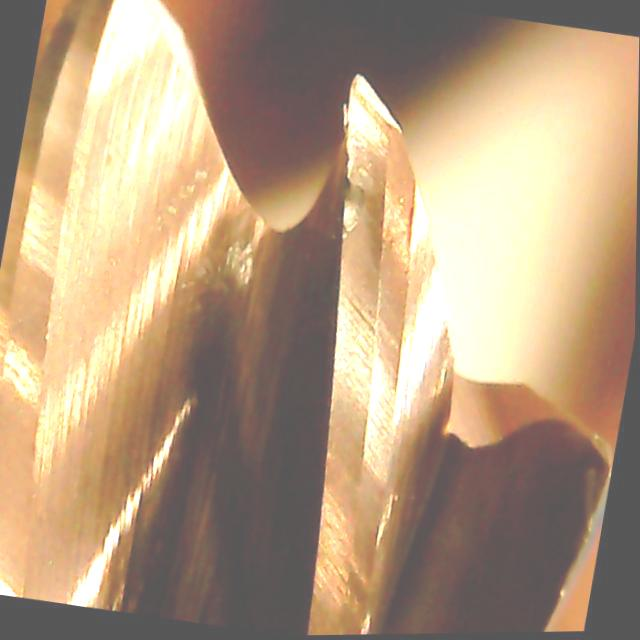Tool-wear-class-1: (283, 63, 492, 419)
